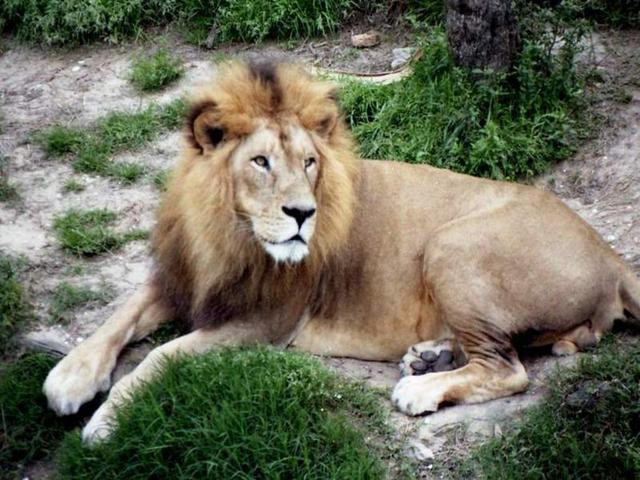lion: (34, 45, 631, 464)
